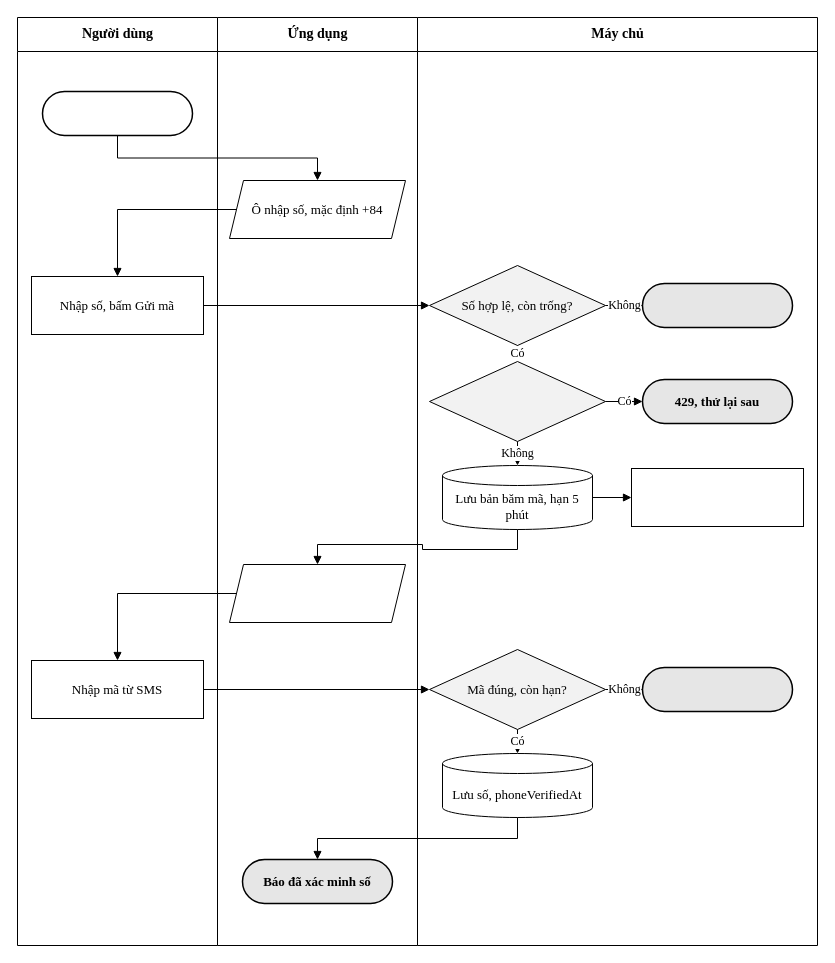
The diagram is 835 pixels wide and 963 high, and some of its shapes have lost their labels. The centre of each missing label's shape, as x and y in pixels:
"Báo lỗi số điện thoại" belongs at [717,305].
"Báo sai, 5 lần thì hủy mã" belongs at [717,689].
"Bấm Xác minh số" belongs at [117,113].
"Nhà cung cấp SMS gửi tin" belongs at [717,497].
"Vượt giới hạn gửi?" belongs at [517,401].
"Ô nhập mã, gửi lại sau 60 giây" belongs at [317,593].
